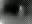person: (17, 5, 25, 20)
